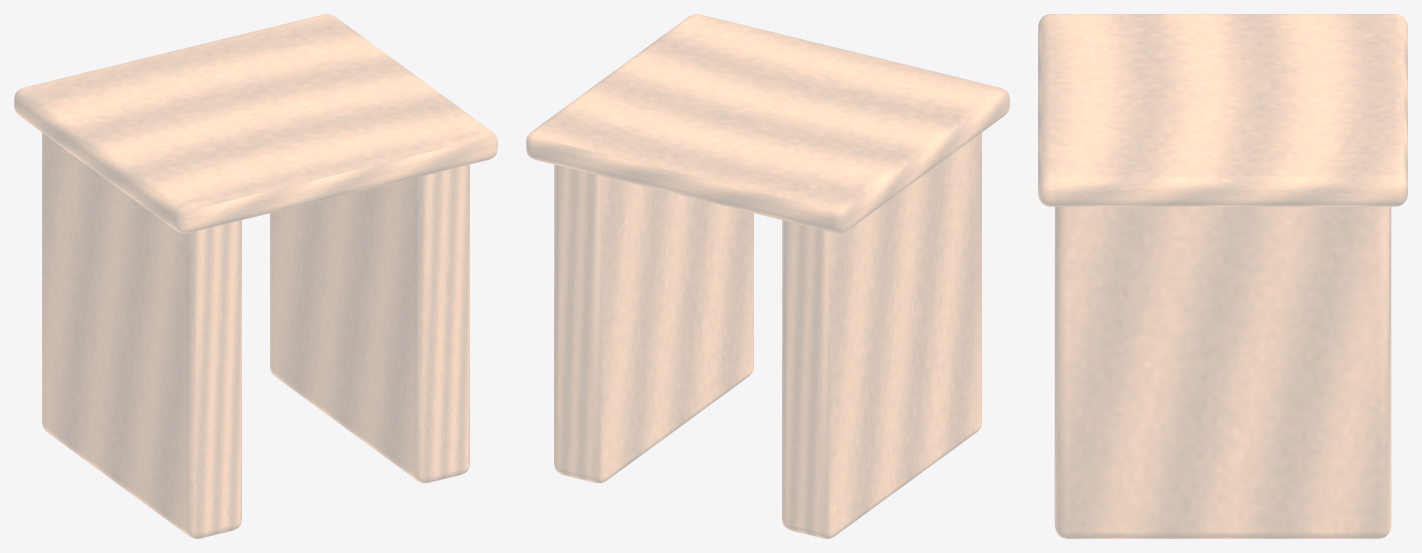
Rendered from ref06_15.glb.
3 views of the same model, side by side, from view 1: azimuth 30°, elevation 25°; view 2: azimuth 150°, elevation 25°; view 3: azimuth 270°, elevation 25° (orthographic). The views are drawn at different scales.
Parts seen in each view (by area): view 1: ref06_15; view 2: ref06_15; view 3: ref06_15.
Boxes of the visible parts, x1,y1,x2,y2 form: ref06_15: (14,14,497,538); ref06_15: (526,14,1009,538); ref06_15: (1038,14,1407,538).
Bounding box in the file's own units: 0.48 × 0.49 × 0.44.
Materials: 1 (1 with a texture image).
